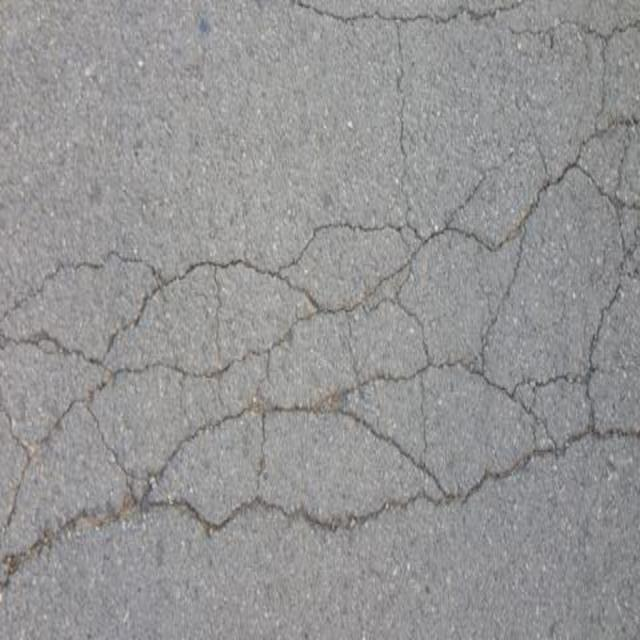cracks: (0, 2, 640, 623)
